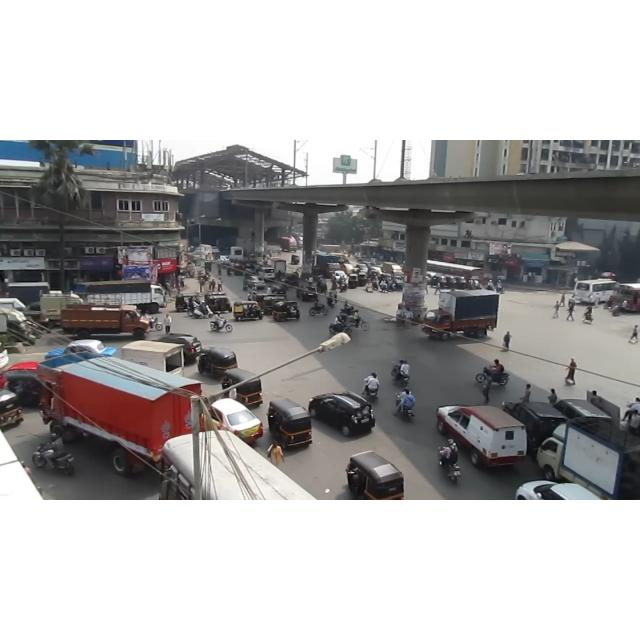auto: (342, 452, 414, 500), (268, 396, 312, 456), (219, 364, 269, 405), (197, 342, 239, 382), (232, 299, 264, 323), (272, 300, 304, 324)
truck: (37, 358, 202, 477), (536, 420, 640, 500), (422, 290, 500, 340), (60, 304, 150, 340), (75, 280, 166, 314), (121, 340, 183, 376), (279, 232, 305, 252), (382, 261, 404, 276), (269, 258, 287, 276), (228, 246, 244, 262)
